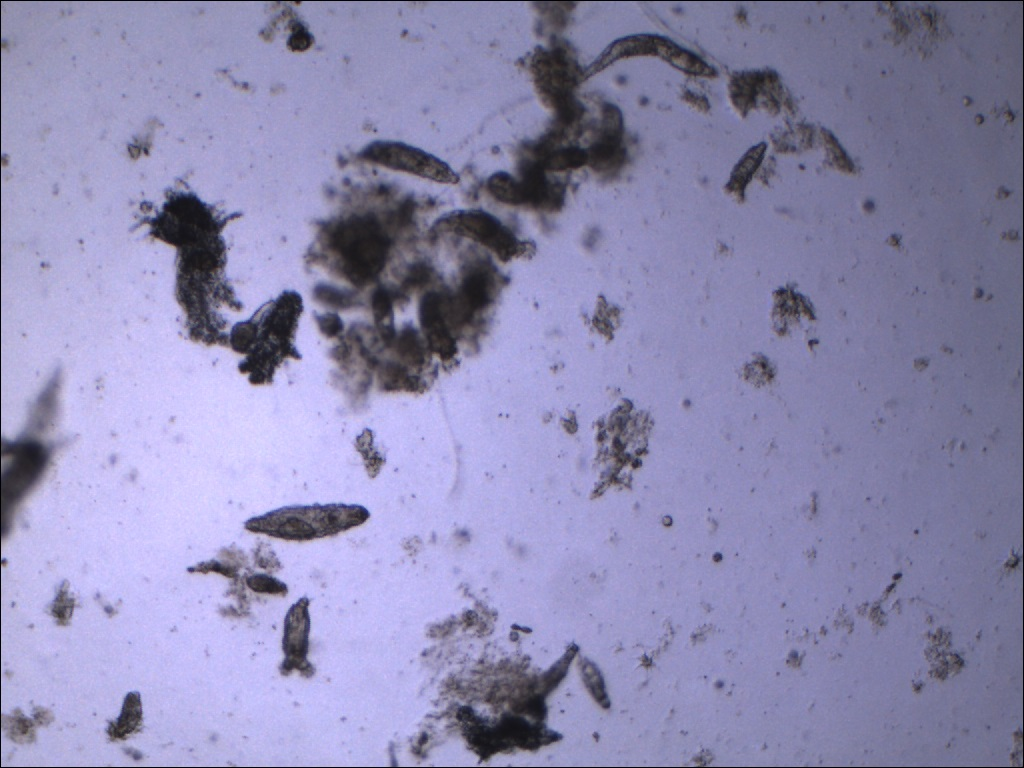amoeba: (121, 179, 250, 351), (240, 289, 310, 391)
